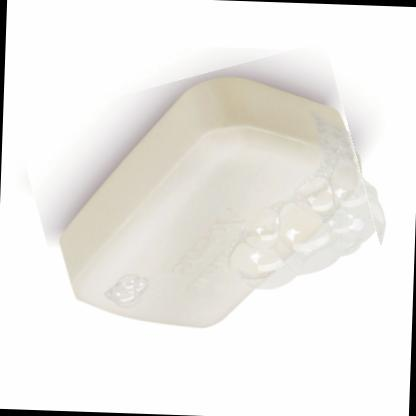soap: (22, 52, 382, 354)
